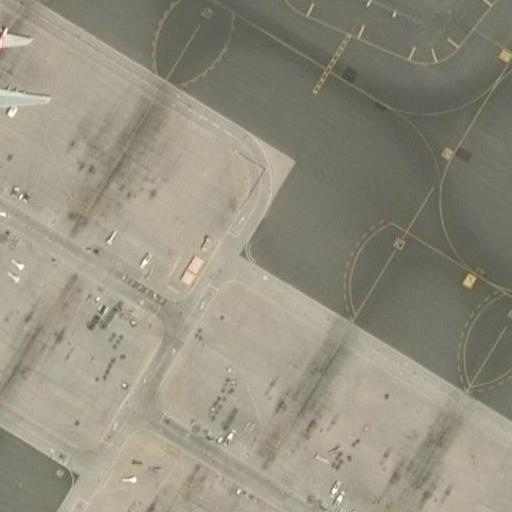Aircraft: (0, 0, 50, 142)
